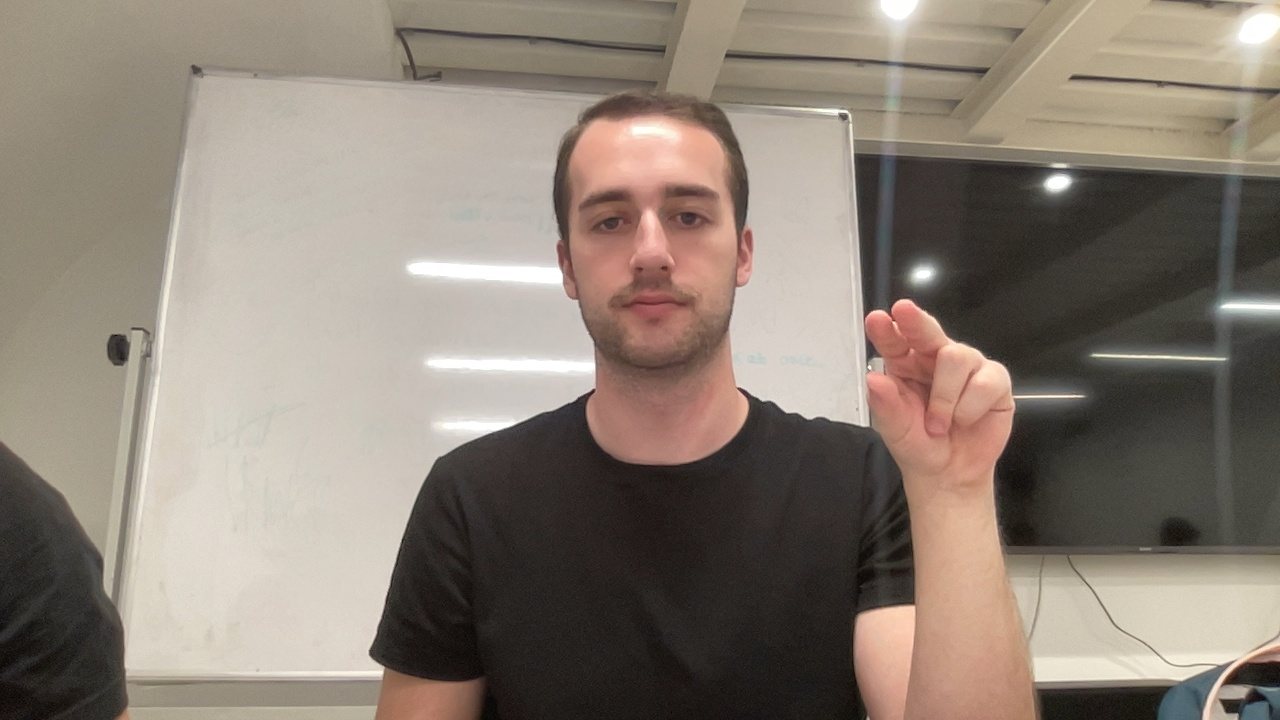No: (861, 293, 1020, 489)
